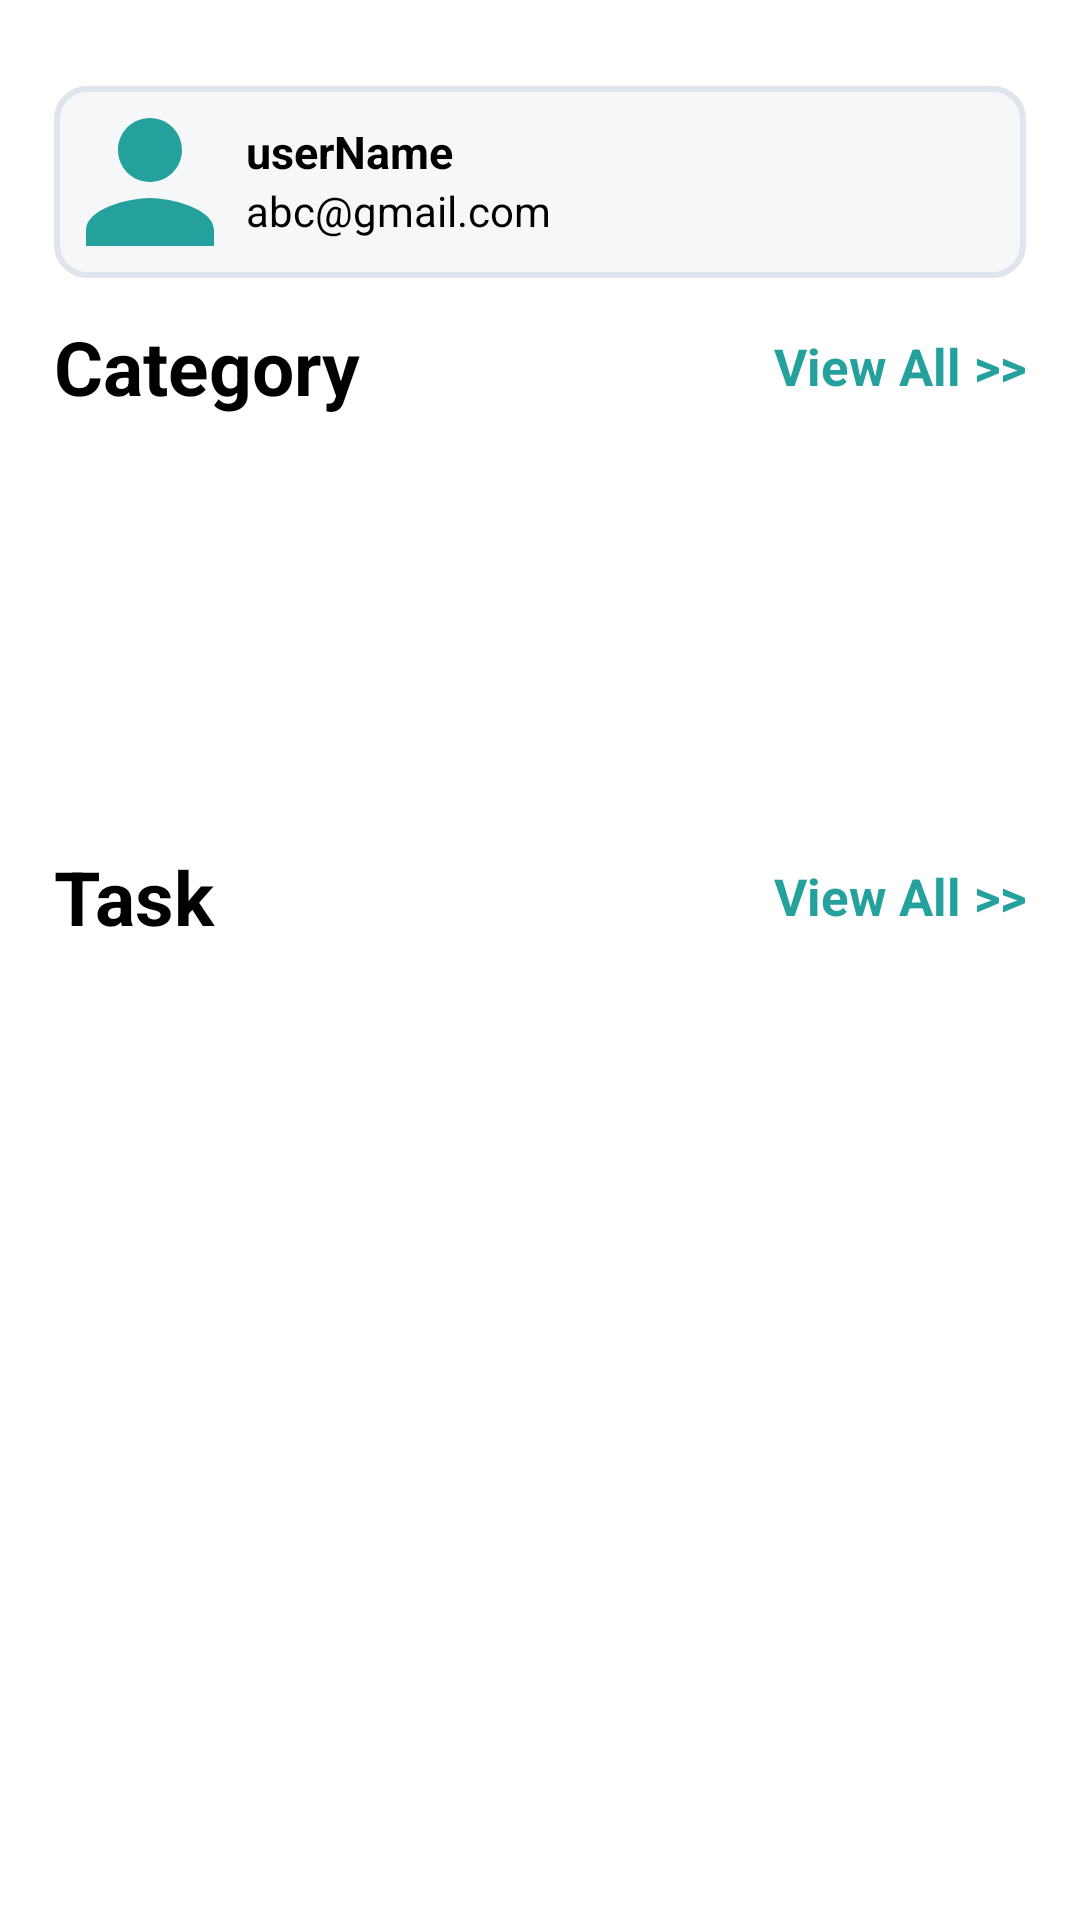

Screen size 1080px×1920px. Icon name, then its center in pixels as point (x, y):
person: point (150, 182)
